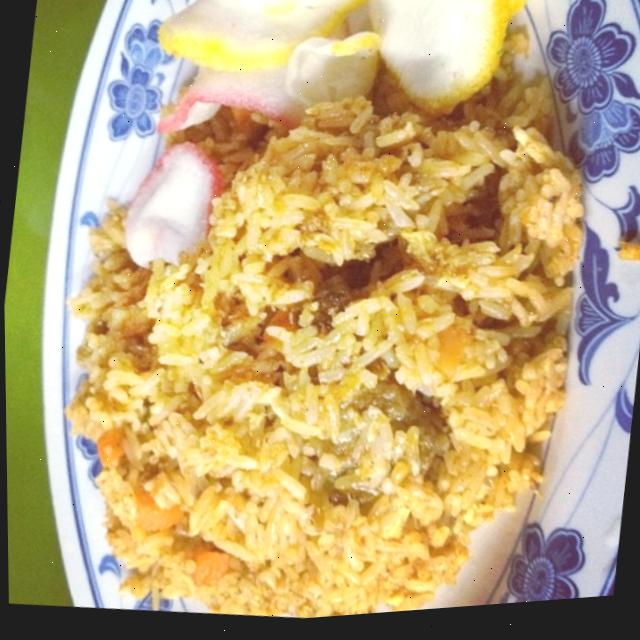米饭主食: (11, 0, 640, 639)
